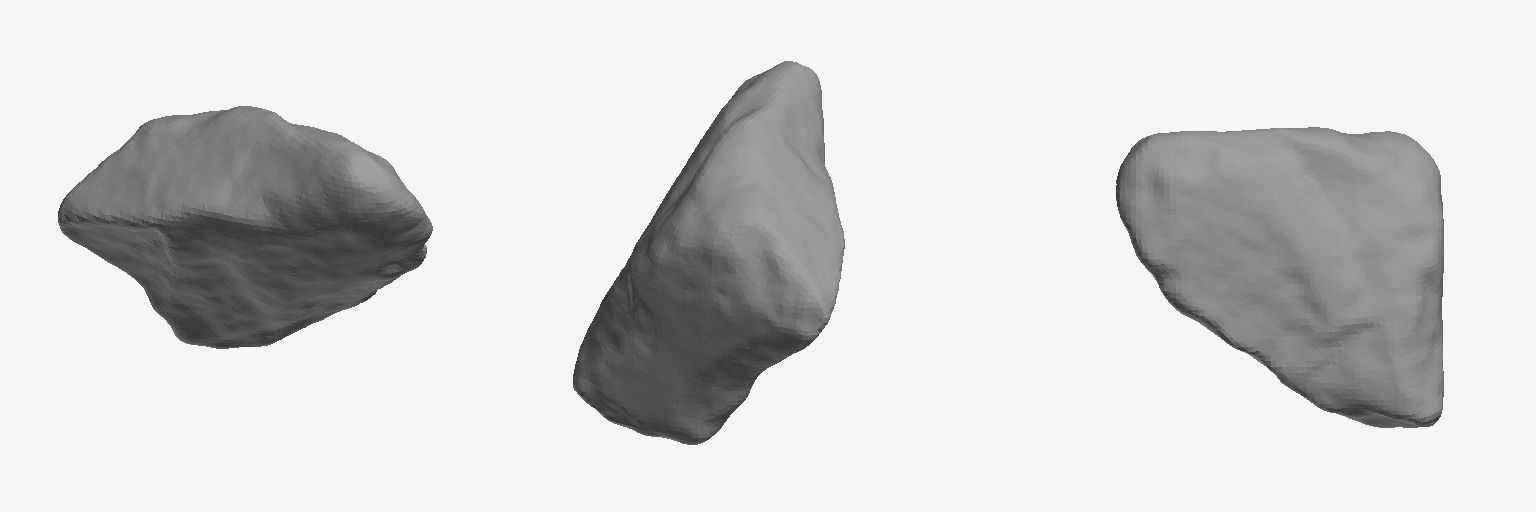
The picture shows the model from 3 angles: view 1: azimuth 30°, elevation 25°; view 2: azimuth 150°, elevation 25°; view 3: azimuth 270°, elevation 25°; orthographic projection.
Parts seen in each view (by area): view 1: SP2_am; view 2: SP2_am; view 3: SP2_am.
Boxes of the visible parts, box(x1,y1,x2,y2) form: SP2_am: box(58, 106, 432, 348); SP2_am: box(573, 61, 844, 444); SP2_am: box(1116, 127, 1443, 427).
Size of the model in its own units: 71.12 by 73.68 by 78.31.